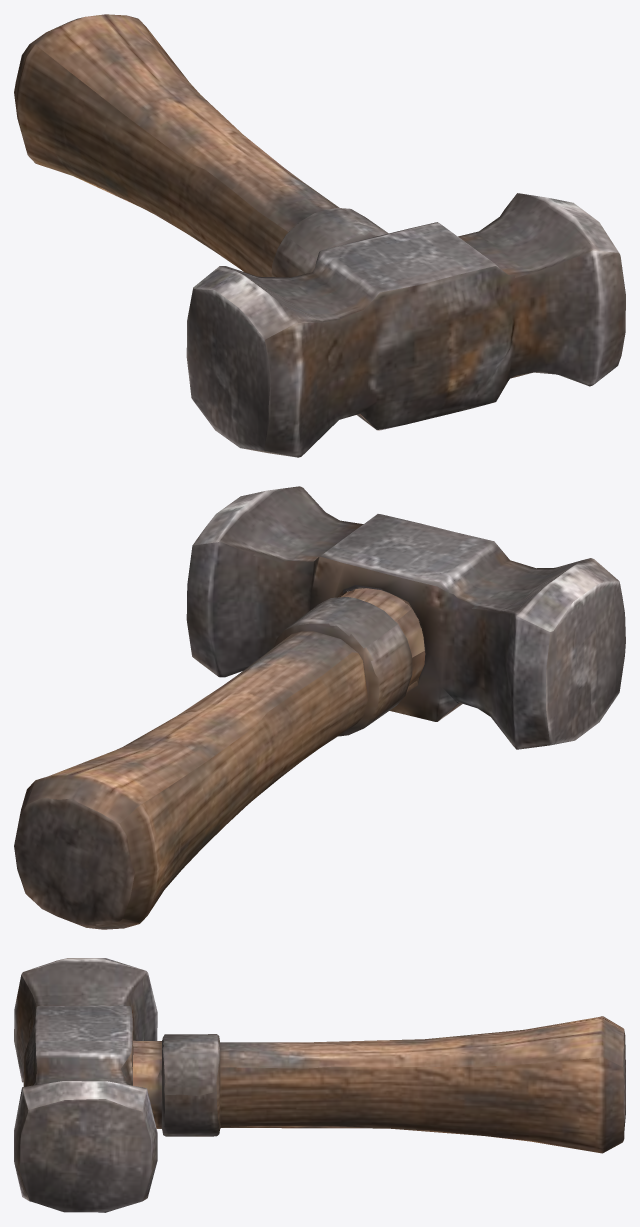
3 renders of one model, top to bottom at view 1: azimuth 30°, elevation 25°; view 2: azimuth 150°, elevation 25°; view 3: azimuth 270°, elevation 25°, orthographic. The views are drawn at different scales.
Parts seen in each view (by area): view 1: geometry_0; view 2: geometry_0; view 3: geometry_0.
Boxes of the visible parts, box(x1,y1,x2,y2) form: geometry_0: box(14, 14, 625, 457); geometry_0: box(14, 486, 625, 929); geometry_0: box(14, 958, 625, 1212).
Size of the model in its own units: 0.319 by 0.1357 by 0.5803.
Materials: 1 (1 with a texture image).
